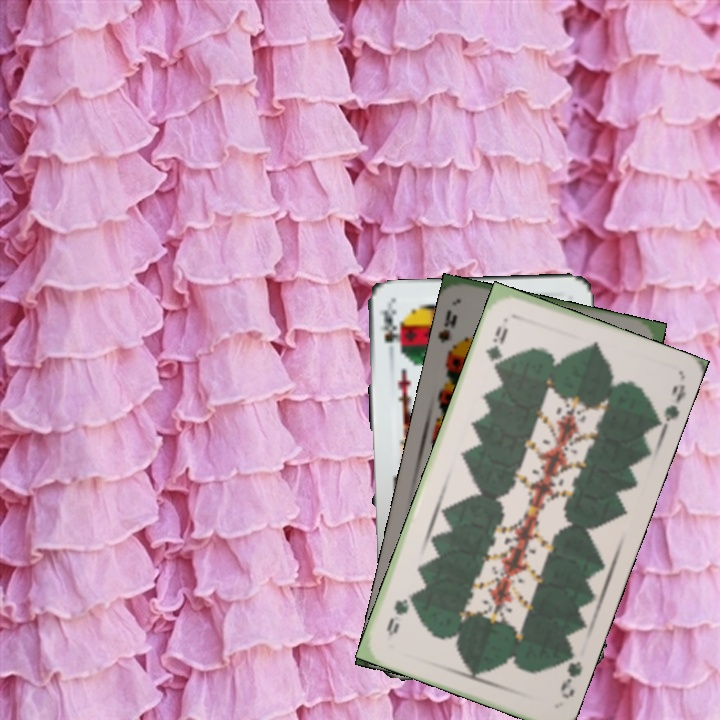G9: (556, 646, 585, 701), (481, 322, 511, 371)
S9: (436, 305, 460, 360)
SK: (376, 305, 400, 345)
